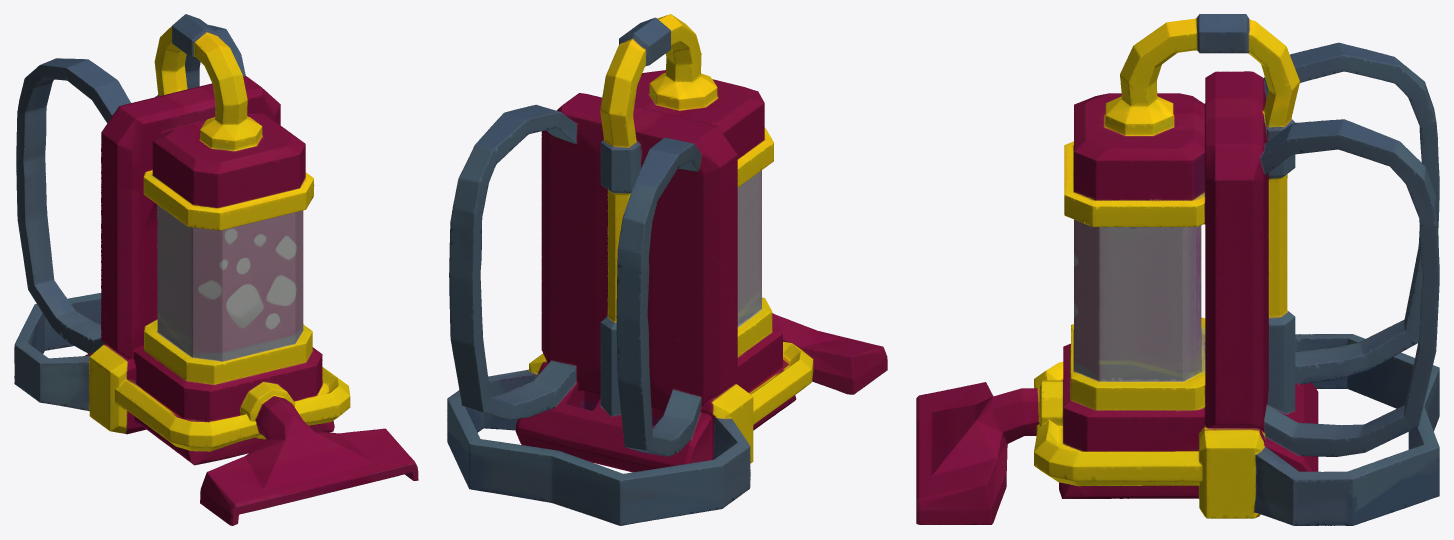
Rendered from Brick_Build_Vacuum.fbx.
3 renders of one model, left to right at view 1: azimuth 30°, elevation 25°; view 2: azimuth 150°, elevation 25°; view 3: azimuth 270°, elevation 25°, orthographic. The views are drawn at different scales.
Visible parts, largest first — view 1: Mesh_0; view 2: Mesh_0; view 3: Mesh_0.
Part boxes in pixels (bbox=[...]): Mesh_0: bbox=[14, 14, 418, 525]; Mesh_0: bbox=[447, 14, 887, 525]; Mesh_0: bbox=[916, 14, 1439, 525].
Bounding box in the file's own units: 125 × 184 × 190.
1 material, 1 textured.
